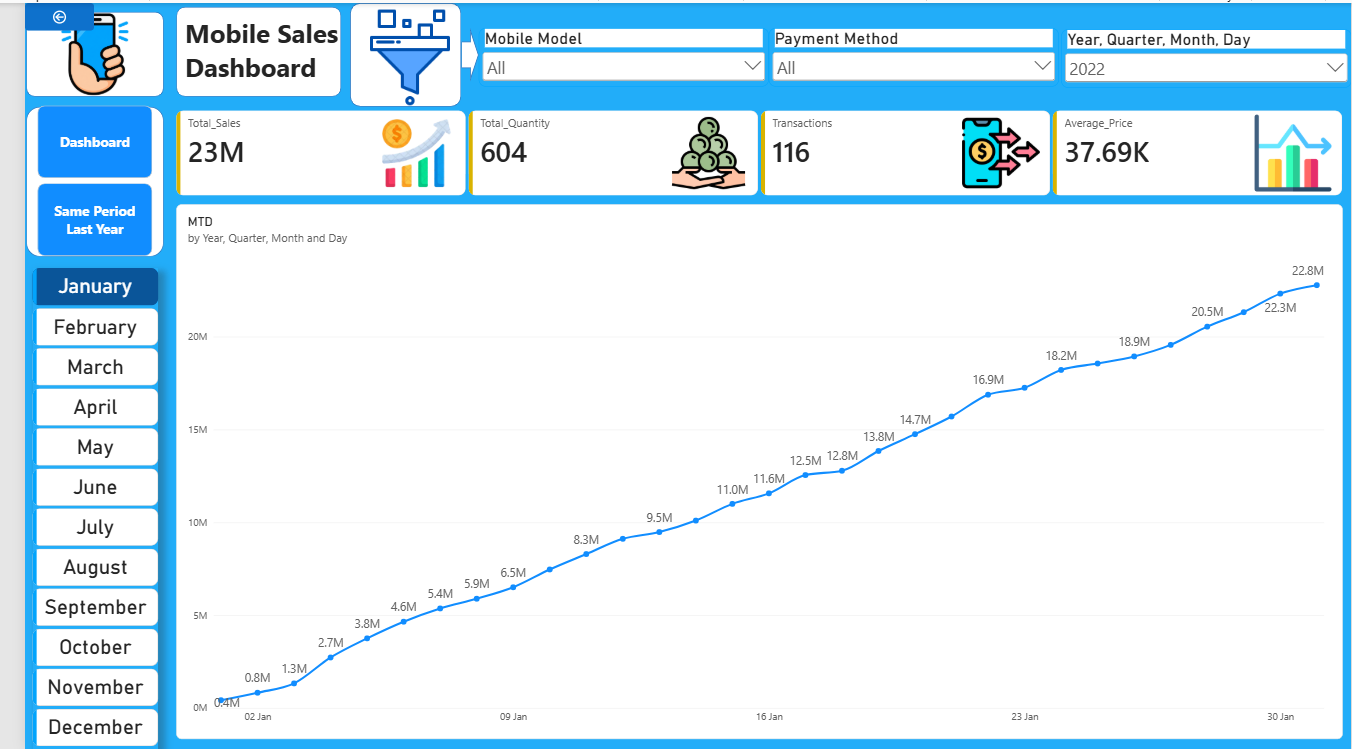

Layout of this report page (visuals, bound fields, positions):
{"tool":"powerbi","page":{"name":"MTD Report","canvas":[1920,1080],"ordinal":1},"visuals":[{"type":"shape","box":[1.8,12.7,199.1,123.1],"z":0},{"type":"image","box":[18.1,12.7,166.5,123.1],"z":1000},{"type":"shape","box":[1.8,150.2,199.1,217.2],"z":2000},{"type":"cardVisual","fields":{"Data":["Mobile_Sales_Data.Total_Sales","Mobile_Sales_Data.Total_Quantity","Mobile_Sales_Data.Transactions","Mobile_Sales_Data.Average_Price"]},"box":[219,155.6,1688.4,123.1],"z":3000},{"type":"slicer","fields":{"Values":["Mobile_Sales_Data.Mobile Model"]},"box":[656.9,36.2,419.8,85.1],"z":4000},{"type":"slicer","fields":{"Values":["Mobile_Sales_Data.Payment Method"]},"box":[1076.7,36.2,419.8,85.1],"z":5000},{"type":"slicer","fields":{"Values":["Custom_Calendar.Date.Variation.Date Hierarchy.Year","Custom_Calendar.Date.Variation.Date Hierarchy.Quarter","Custom_Calendar.Date.Variation.Date Hierarchy.Month","Custom_Calendar.Date.Variation.Date Hierarchy.Day"]},"box":[1500.2,38,419.8,85.1],"z":6000},{"type":"shape","box":[470.5,0,161.1,150.2],"z":7000},{"type":"image","box":[322.1,7.2,470.5,143],"z":8000},{"type":"shape","box":[631.6,36.2,25.3,77.8],"z":9000},{"type":"shape","box":[219,5.4,238.9,130.3],"z":10000},{"type":"textbox","box":[231.6,18.1,238.9,103.2],"z":11000},{"type":"actionButton","box":[0,0,100,40],"z":12000},{"type":"lineChart","fields":{"Category":["Custom_Calendar.Date.Variation.Date Hierarchy.Year","Custom_Calendar.Date.Variation.Date Hierarchy.Quarter","Custom_Calendar.Date.Variation.Date Hierarchy.Month","Custom_Calendar.Date.Variation.Date Hierarchy.Day"],"Y":["Mobile_Sales_Data.MTD"]},"box":[219,291.4,1688.4,774.5],"z":13000},{"type":"advancedSlicerVisual","fields":{"Values":["Custom_Calendar.Date.Variation.Date Hierarchy.Month"]},"box":[10.9,383.3,182.8,696.7],"z":14000},{"type":"pageNavigator","box":[18.1,148.4,166.5,219],"z":15000}]}

Visuals, with their boxes in screenshot pixels (x1, y1, x2, y2), scaled from the page's 1920x1080 canvas onto the 1352x749 screenshot:
shape: box=[1, 9, 141, 94]
image: box=[13, 9, 130, 94]
shape: box=[1, 104, 141, 255]
cardVisual - Mobile_Sales_Data.Total_Sales x Mobile_Sales_Data.Total_Quantity: box=[154, 108, 1343, 193]
slicer - Mobile_Sales_Data.Mobile Model: box=[463, 25, 758, 84]
slicer - Mobile_Sales_Data.Payment Method: box=[758, 25, 1054, 84]
slicer - Custom_Calendar.Date.Variation.Date Hierarchy.Year x Custom_Calendar.Date.Variation.Date Hierarchy.Quarter: box=[1056, 26, 1351, 85]
shape: box=[331, 0, 445, 104]
image: box=[227, 5, 558, 104]
shape: box=[445, 25, 463, 79]
shape: box=[154, 4, 322, 94]
textbox: box=[163, 13, 331, 84]
actionButton: box=[0, 0, 70, 28]
lineChart - Custom_Calendar.Date.Variation.Date Hierarchy.Year x Custom_Calendar.Date.Variation.Date Hierarchy.Quarter: box=[154, 202, 1343, 739]
advancedSlicerVisual - Custom_Calendar.Date.Variation.Date Hierarchy.Month: box=[8, 266, 136, 748]
pageNavigator: box=[13, 103, 130, 255]
